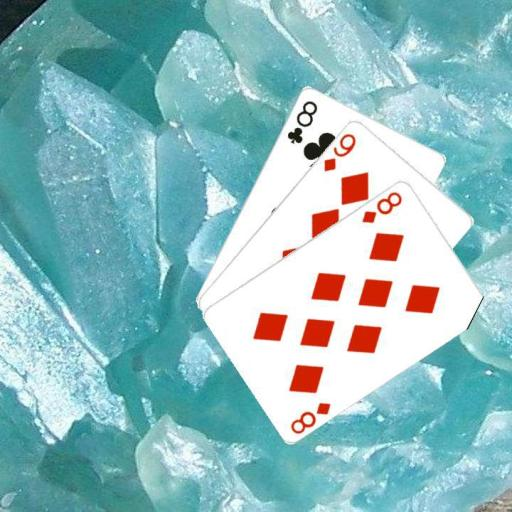8C: (284, 97, 319, 145)
8D: (358, 188, 404, 225), (287, 398, 333, 435)
9D: (320, 129, 358, 173)
